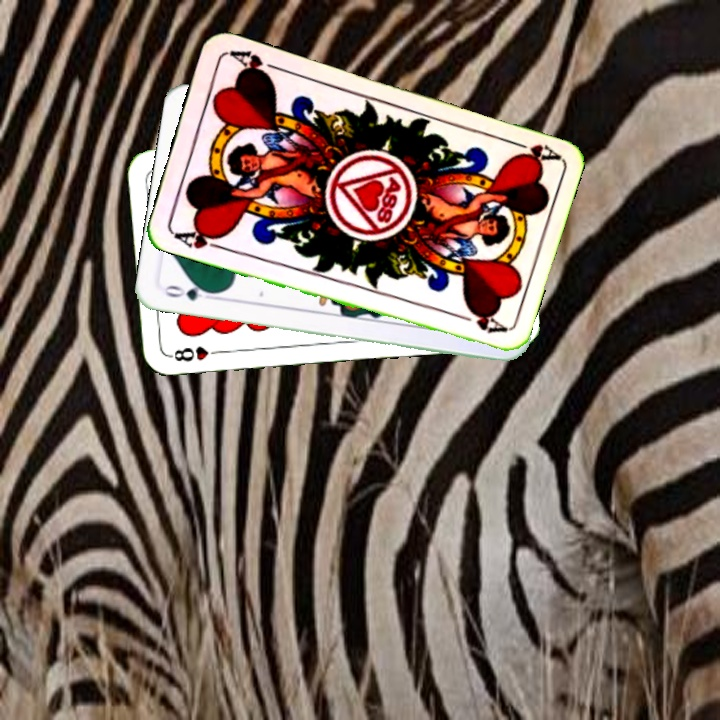GO: (160, 280, 219, 304)
H8: (165, 341, 225, 364)
HA: (502, 135, 560, 167), (168, 223, 229, 252)
